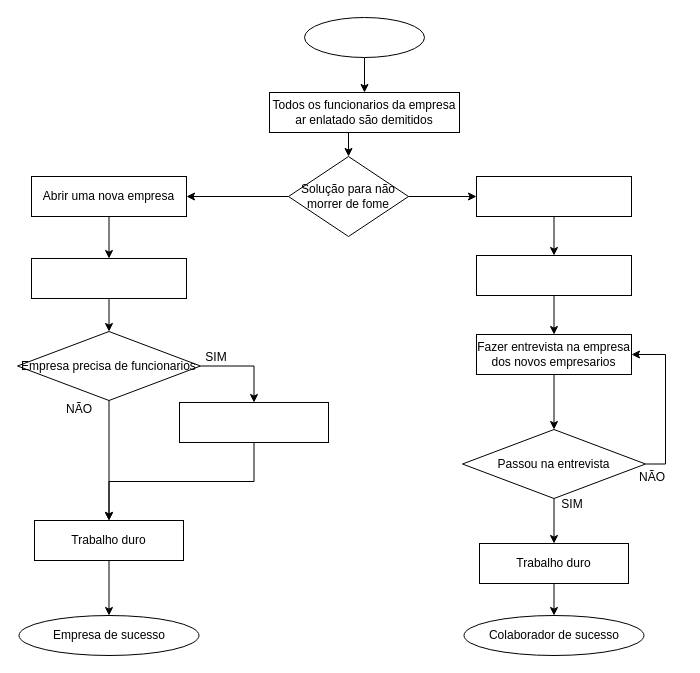
Some shapes in this 700 by 673 pixel diagram are drawn without their labels. Each missing label, with the centre of its shape:
"Contratar funcionarios" goes at (253,422).
"Enviar curriculo" goes at (554,275).
"Inicio" goes at (364,37).
"Procurar um emprego" goes at (554,196).
"Tornar se empresario" goes at (108,278).
